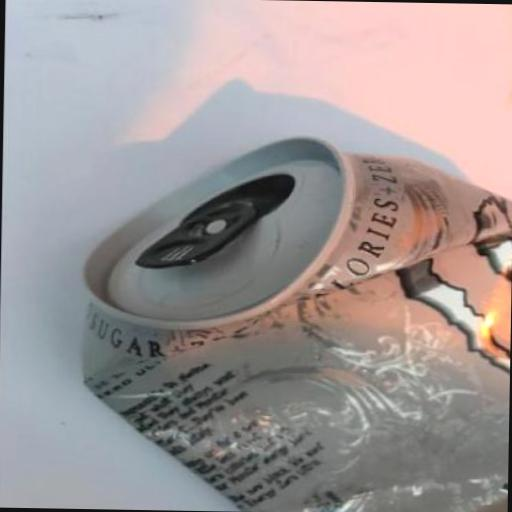metal: (79, 133, 512, 512)
